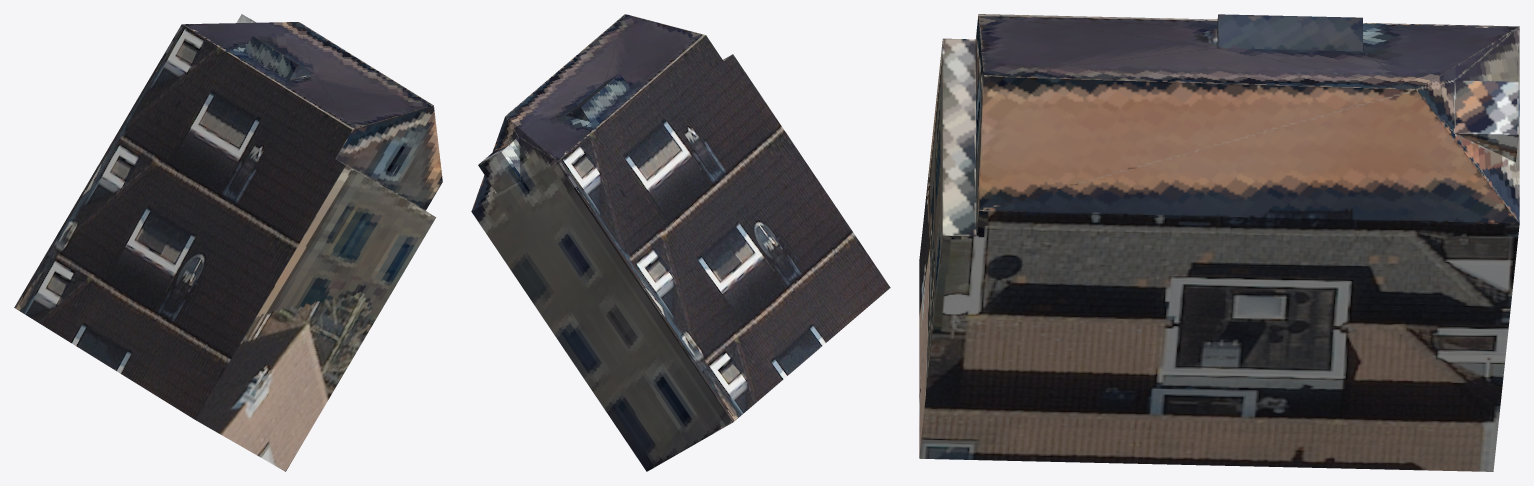
The picture shows the model from 3 angles, left to right: view 1: azimuth 30°, elevation 25°; view 2: azimuth 150°, elevation 25°; view 3: azimuth 270°, elevation 25°; orthographic projection. The views are drawn at different scales.
Parts seen in each view (by area): view 1: BAG_0599100000688699 (×6); view 2: BAG_0599100000688699 (×6); view 3: BAG_0599100000688699 (×6).
Part boxes in pixels (bbox=[...]): BAG_0599100000688699 (×6): bbox=[14, 14, 442, 471]; BAG_0599100000688699 (×6): bbox=[471, 14, 890, 471]; BAG_0599100000688699 (×6): bbox=[919, 14, 1519, 471].
Bounding box in the file's own units: 10.94 × 12.55 × 12.47.
Materials: 6 (6 with a texture image).
